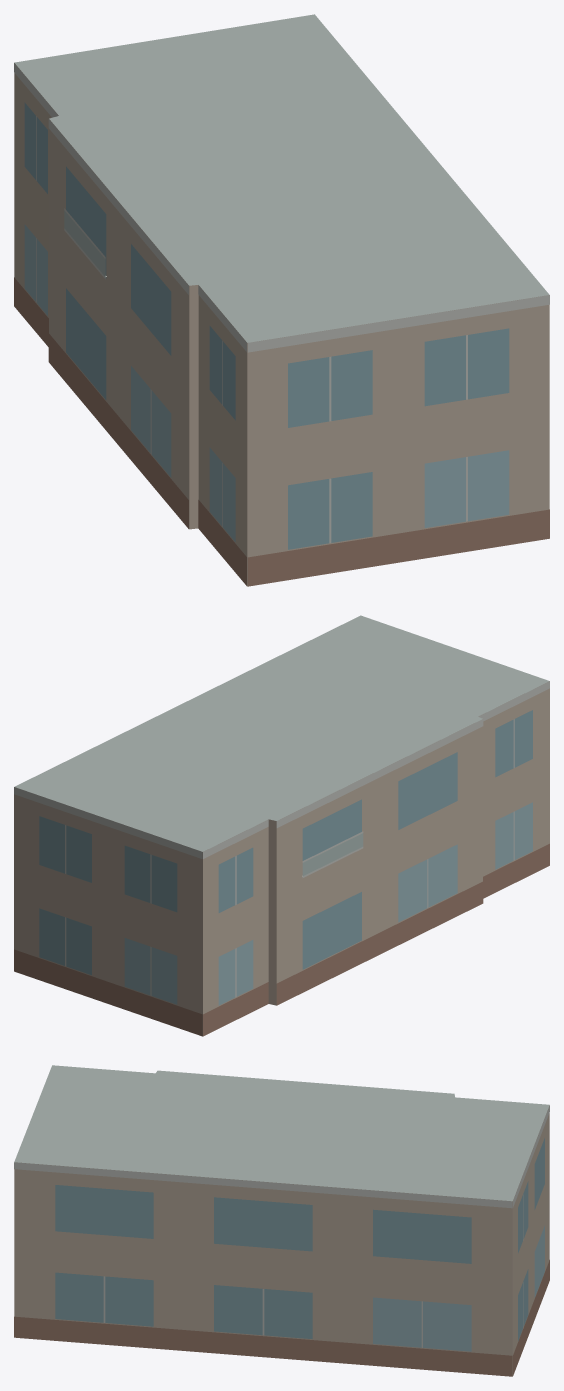
Rendered from survey-upis-32652512.glb.
3 views of the same model, one above another, from view 1: azimuth 30°, elevation 25°; view 2: azimuth 150°, elevation 25°; view 3: azimuth 270°, elevation 25° (orthographic). The views are drawn at different scales.
Parts seen in each view (by area): view 1: survey-upis-32652512.tmp; view 2: survey-upis-32652512.tmp; view 3: survey-upis-32652512.tmp.
Part boxes in pixels (x1,y1,x2,y2): survey-upis-32652512.tmp: (14,14,549,586); survey-upis-32652512.tmp: (14,615,549,1036); survey-upis-32652512.tmp: (14,1065,549,1376).
Size of the model in its own units: 10.16 by 6.1 by 16.89.
